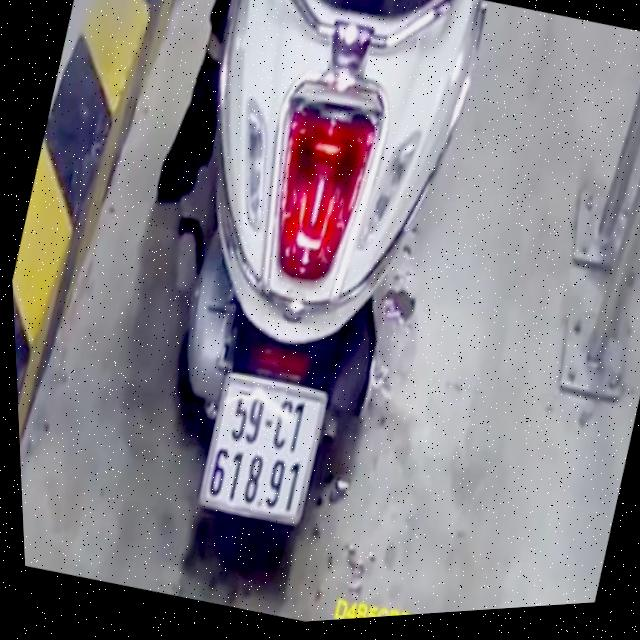motorcycle: (80, 0, 517, 584)
plate: (177, 360, 339, 537)
